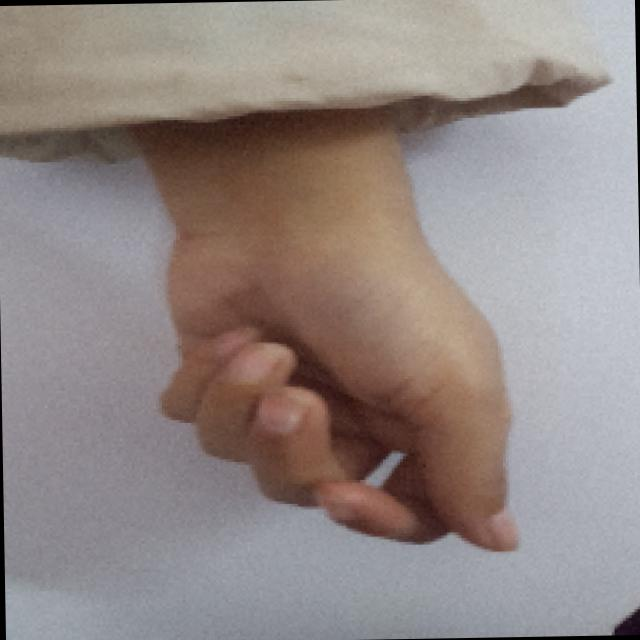Nail: (257, 393, 302, 435), (229, 343, 277, 382), (489, 507, 519, 551), (215, 333, 245, 356), (323, 500, 349, 519)
